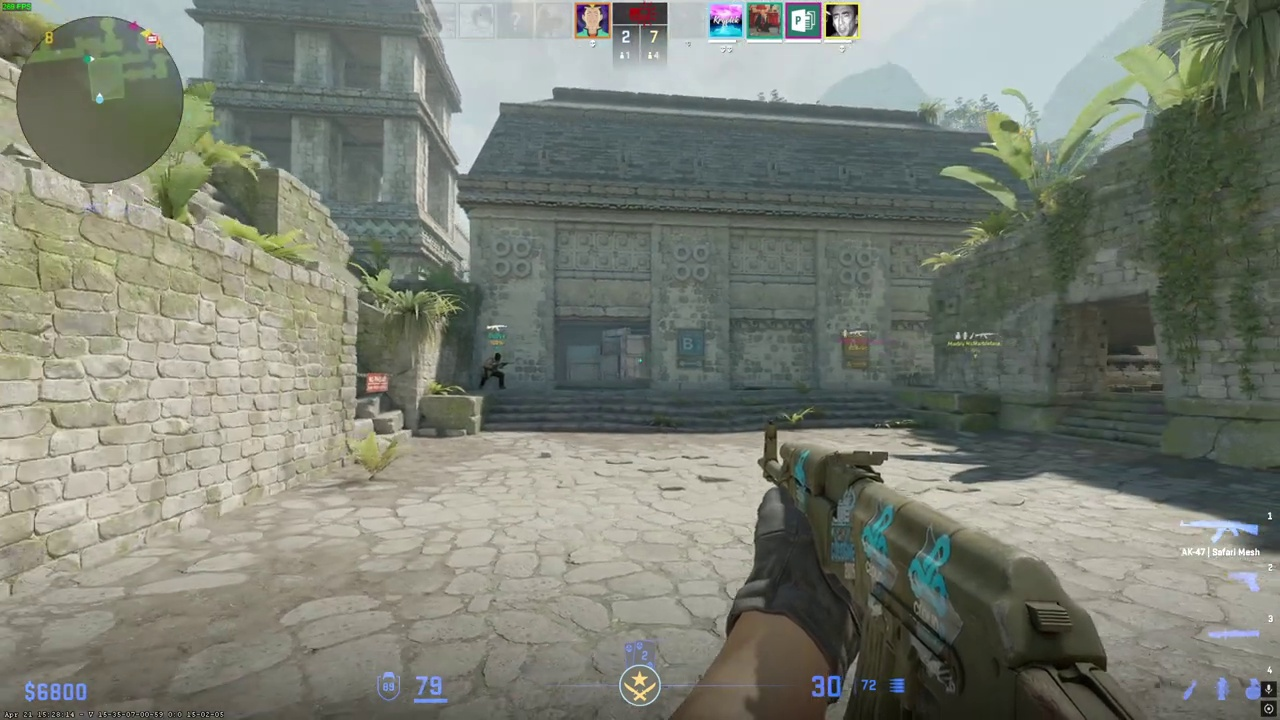Terrorist: (480, 353, 507, 390)
